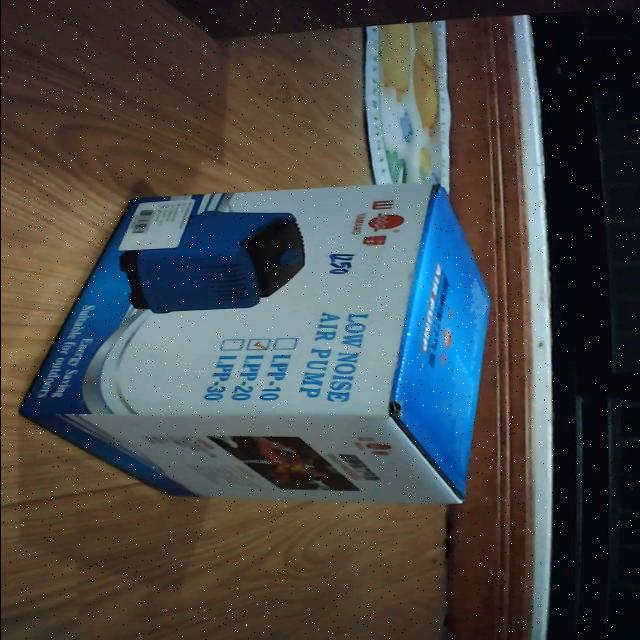YAMANO_LPP_20: (11, 171, 510, 511)
